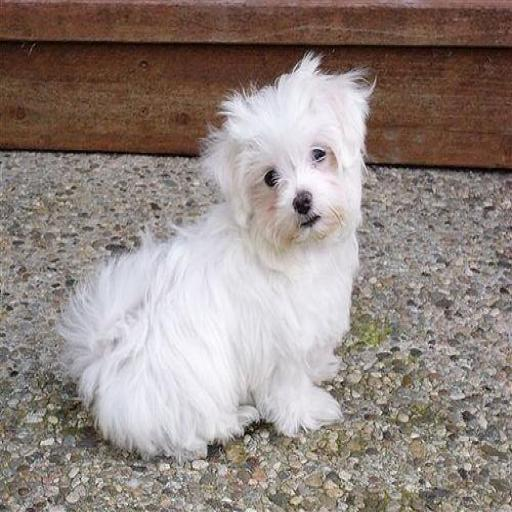dog_face: (208, 74, 359, 250)
